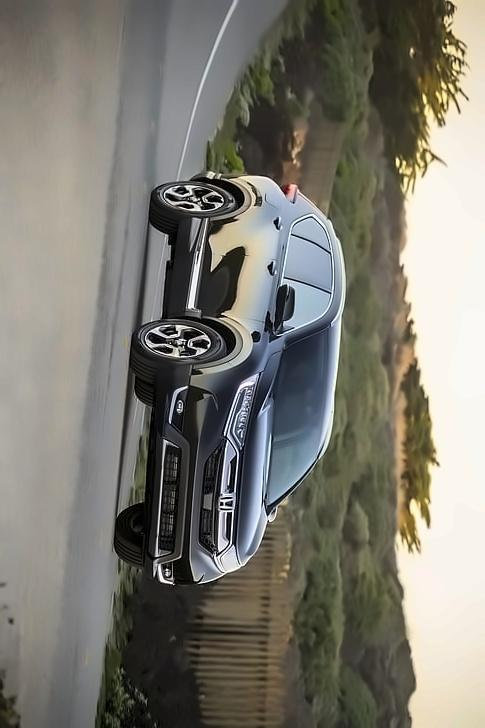Car hood: (236, 346, 285, 572)
Driver-s door - -F-R-: (186, 253, 351, 328)
Fender - -F-R-: (171, 311, 294, 383)
Fender - -R-R-: (230, 180, 296, 213)
Front bumper: (136, 356, 231, 595)
Headlight - -L-: (209, 533, 248, 579)
Headlight - -R-: (219, 365, 265, 459)
Passenger-s door - -R-R-: (199, 206, 352, 281)
Rear bumper: (182, 158, 236, 189)
Rear light - -R-: (273, 179, 312, 208)
Side bumper - -R-: (158, 210, 213, 331)
Side mirror - -L-: (265, 498, 284, 526)
Side mirror - -R-: (269, 278, 300, 334)
